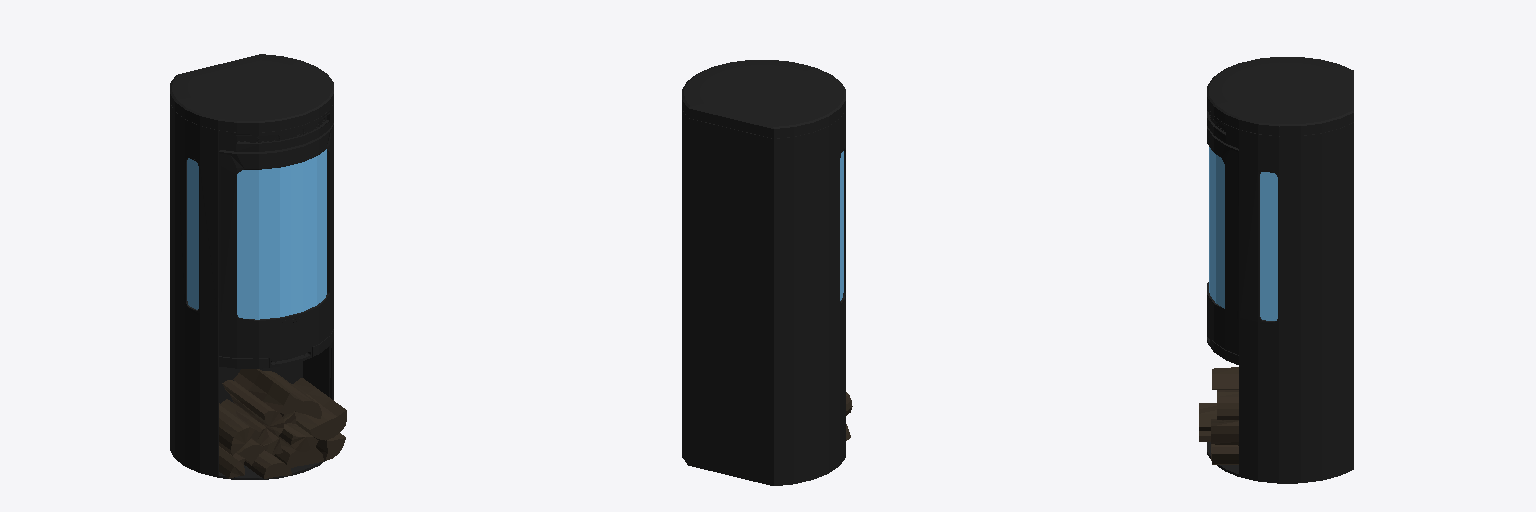
The model's file is fireplace.obj.
3 views of the same model, side by side, from view 1: azimuth 30°, elevation 25°; view 2: azimuth 150°, elevation 25°; view 3: azimuth 270°, elevation 25° (orthographic).
Parts seen in each view (by area): view 1: contura_556_Mesh11.002, contura_556_glass_Mesh11.004, Log_Half.001, Log_Quarter.004, Log_Half_2.003, Log_Half.002, Log_Half_2, Log_Half_2.001, Log_Half, Log_Half_2.004, Log_Quarter_2, Log_Quarter_2.002; view 2: contura_556_Mesh11.002, contura_556_glass_Mesh11.004; view 3: contura_556_Mesh11.002, contura_556_glass_Mesh11.004, Log_Half.001, Log_Half_2.004, Log_Quarter.004, Log_Quarter.
Part boxes in pixels (bbox=[...]): contura_556_Mesh11.002: bbox=[170, 54, 333, 479]; contura_556_glass_Mesh11.004: bbox=[187, 149, 326, 319]; Log_Half.001: bbox=[292, 378, 346, 440]; Log_Quarter.004: bbox=[233, 369, 304, 413]; Log_Half_2.003: bbox=[222, 380, 284, 435]; Log_Half.002: bbox=[219, 403, 258, 455]; Log_Half_2: bbox=[244, 450, 291, 478]; Log_Half_2.001: bbox=[270, 423, 318, 451]; Log_Half: bbox=[274, 439, 323, 467]; Log_Half_2.004: bbox=[263, 371, 321, 418]; Log_Quarter_2: bbox=[219, 446, 244, 478]; Log_Quarter_2.002: bbox=[221, 399, 272, 444]; contura_556_Mesh11.002: bbox=[682, 60, 845, 485]; contura_556_glass_Mesh11.004: bbox=[840, 151, 843, 300]; contura_556_Mesh11.002: bbox=[1207, 57, 1353, 483]; contura_556_glass_Mesh11.004: bbox=[1209, 147, 1277, 320]; Log_Half.001: bbox=[1211, 419, 1238, 445]; Log_Half_2.004: bbox=[1217, 390, 1238, 419]; Log_Quarter.004: bbox=[1212, 367, 1238, 389]; Log_Quarter: bbox=[1212, 444, 1238, 464].
Bounding box in the file's own units: 0.4507 × 1.16 × 0.4438.